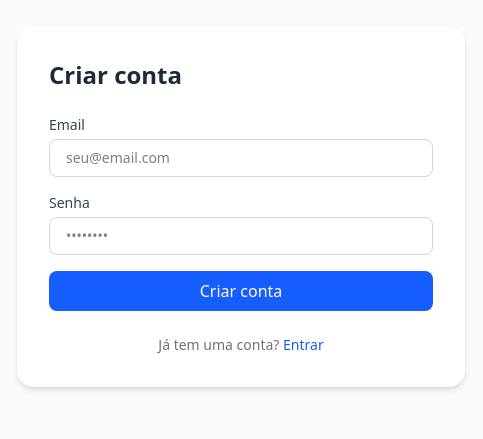
Test: RegisterPage › deve exibir erro quando email já cadastrado
The image size is (483, 439).
Type "teste@email.com" into the field with placeholder "seu@email.com" at (241, 158), box x1=49 y1=139 x2=433 y2=177
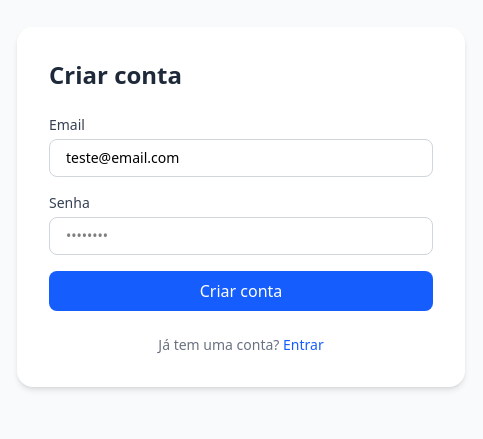
Type "123456" into the password field with placeholder "••••••••" at (241, 236), box x1=49 y1=217 x2=433 y2=255
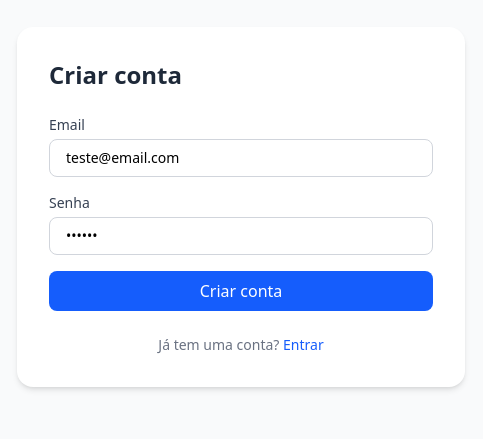
Click the button "Criar conta" at (241, 291), box x1=49 y1=271 x2=433 y2=311
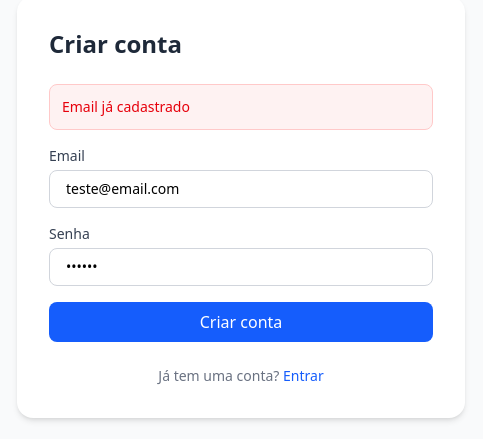
Expected: the text "Email já cadastrado" is shown, x1=49 y1=84 x2=433 y2=130
